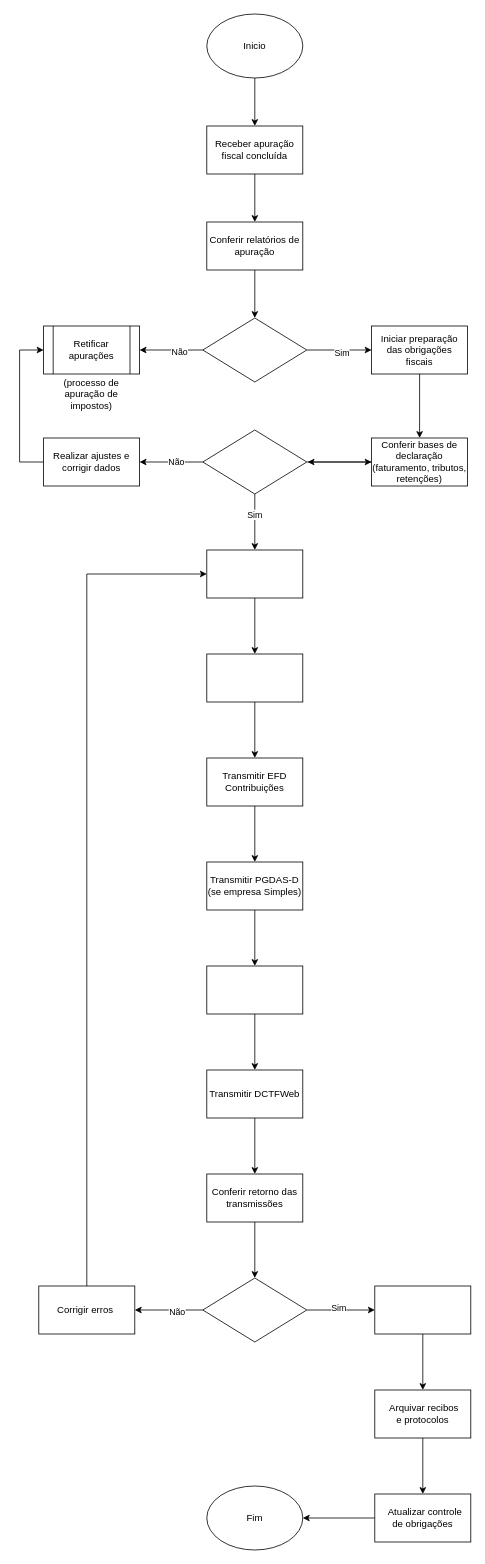
Some shapes in this 485 by 1564 pixel diagram are drawn without their labels. Each missing label, with the centre of its shape:
Apuração validada?: the point at 254,349
Dados completos e corretos?: the point at 254,461
Declarações aceitas?: the point at 254,1309
Gerar arquivos das obrigações: the point at 254,573
Gerar relatórios de entrega: the point at 422,1309
Transmitir EFD ICMS/IPI: the point at 254,677
Transmitir EFD-Reinf: the point at 254,989
